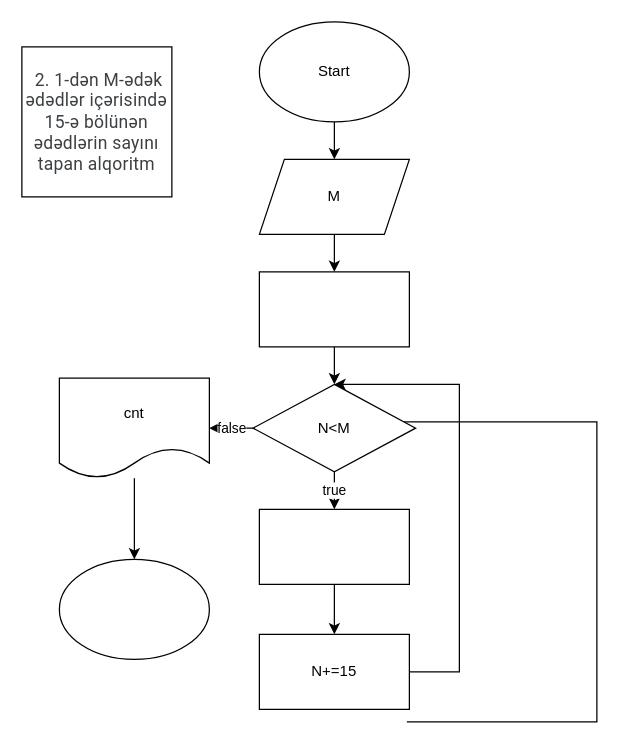
Some shapes in this 629 by 754 pixel diagram are drawn without their labels. Each missing label, with the centre of its shape:
"cnt++" goes at (333,546).
"End" goes at (133,608).
"N=15 cnt=0" goes at (333,309).
